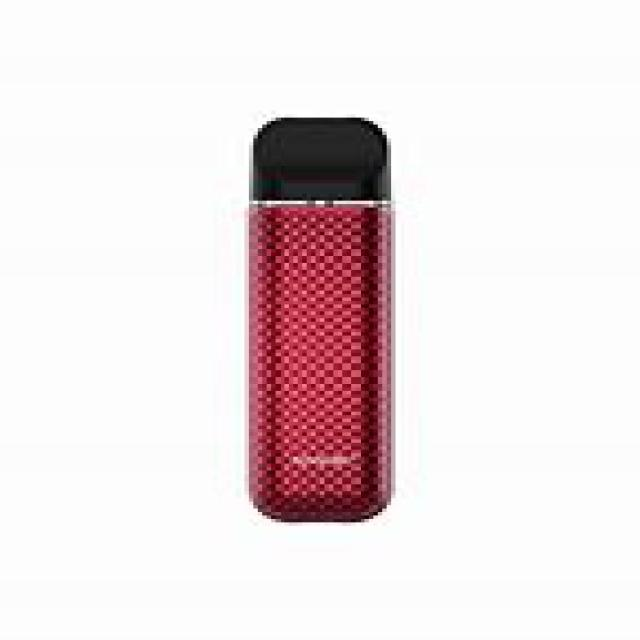Hazard: (244, 115, 396, 522)
